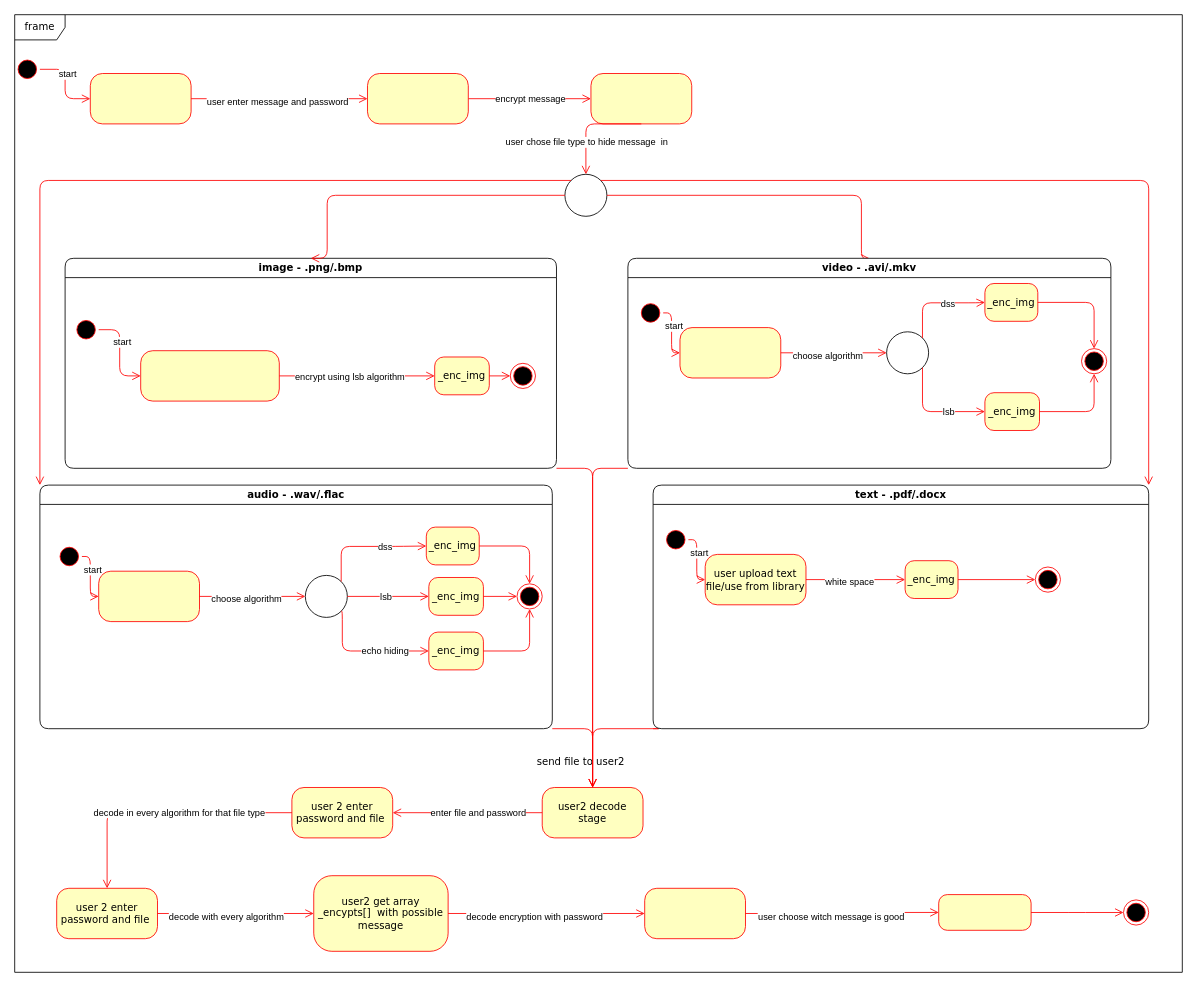
This 1197x987 diagram has some shape labels left out. Each missing label, with the centre of its shape:
_decrypt_msg: (984,912)
_message and _password in program: (417,98)
encrypt_message and _keys created: (641,98)
use password to decrypt message: (695,913)
user upload audio file/use from library: (149,596)
user upload image/use from library: (209,375)
user upload video/use from library: (730,352)
welcome state: (140,98)
